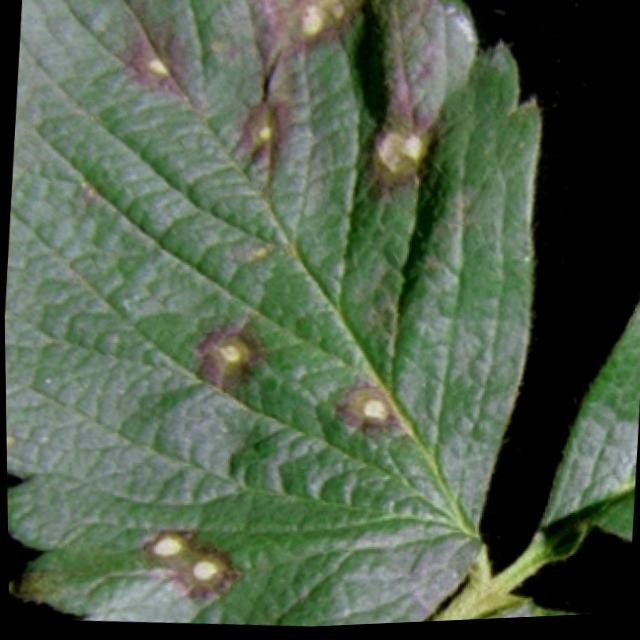Leaf Spot: (4, 0, 540, 629)
